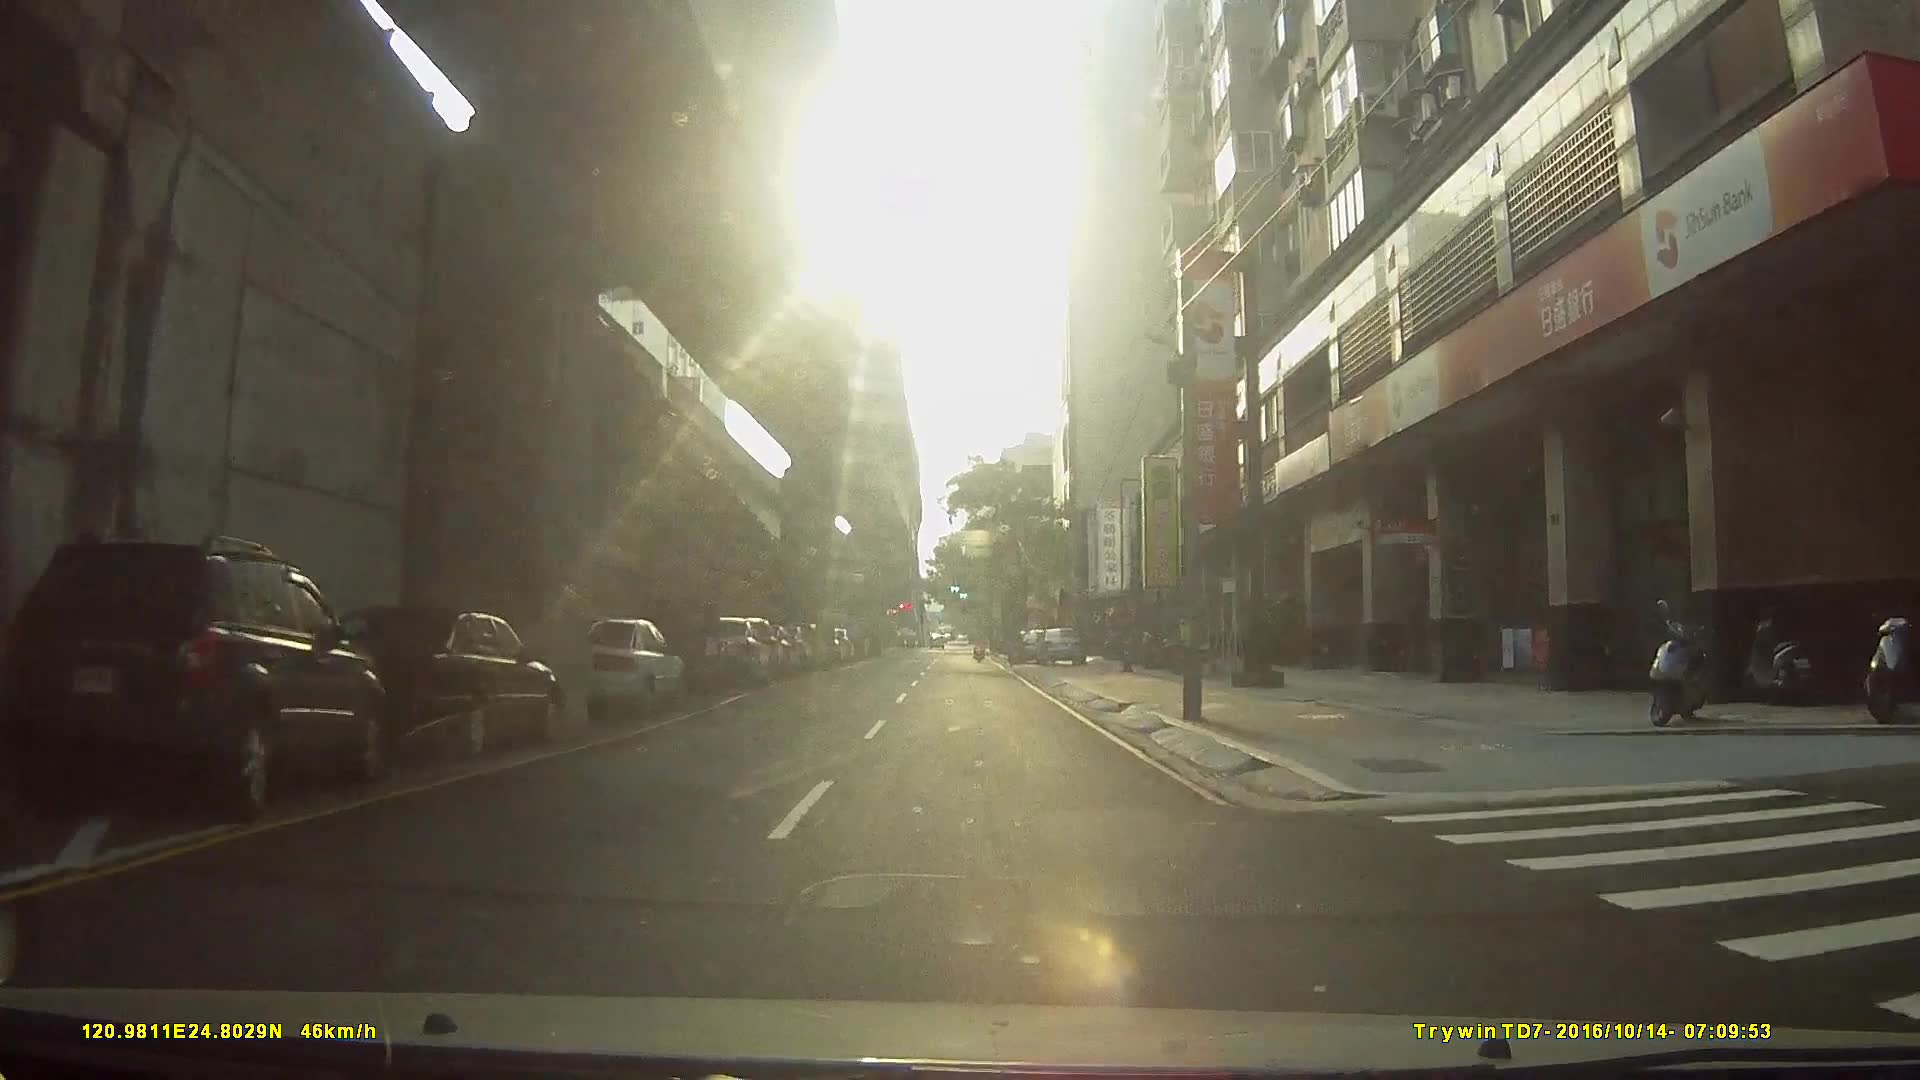vehicle: (0, 539, 390, 822), (311, 607, 564, 757), (559, 616, 688, 723), (626, 596, 728, 700), (659, 620, 794, 670), (1031, 626, 1087, 670)
